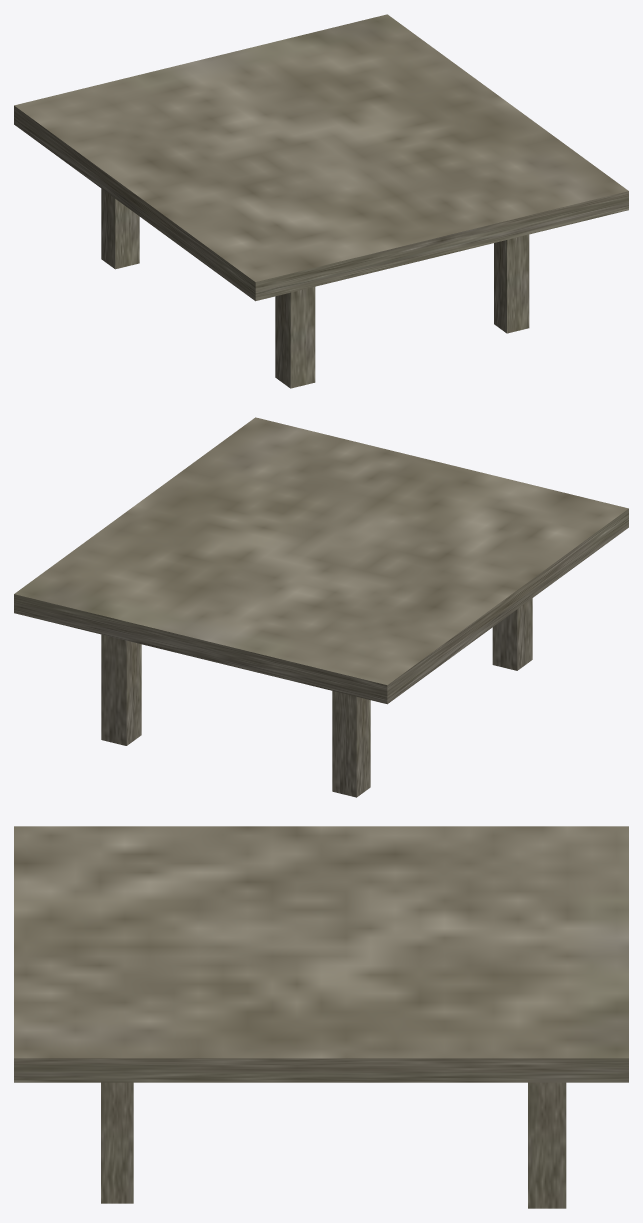
Rendered from LaptopTable.fbx.
3 renders of one model, top to bottom at view 1: azimuth 30°, elevation 25°; view 2: azimuth 150°, elevation 25°; view 3: azimuth 270°, elevation 25°, orthographic. The views are drawn at different scales.
Parts seen in each view (by area): view 1: Cube; view 2: Cube; view 3: Cube.
Part boxes in pixels (bbox=[...]): Cube: bbox=[14, 14, 628, 388]; Cube: bbox=[14, 417, 628, 797]; Cube: bbox=[14, 826, 628, 1208].
Bounding box in the file's own units: 590 × 224 × 661.
1 material, 1 textured.
